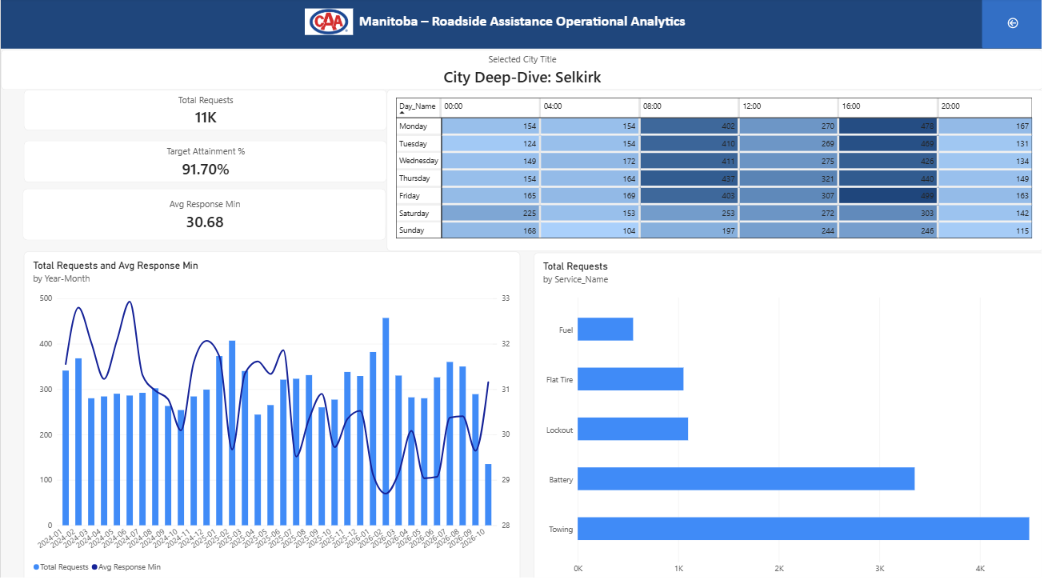

Layout of this report page (visuals, bound fields, positions):
{"tool":"powerbi","page":{"name":"City Deep-Dive","canvas":[1920,1080],"ordinal":3},"visuals":[{"type":"shape","box":[0,0,1920.8,93.8],"z":1000},{"type":"textbox","box":[0,26,1919.5,67.7],"z":2000},{"type":"cardVisual","fields":{"Data":["_Measures.Selected City Title"]},"box":[0,95.9,1918.2,74.2],"z":3000},{"type":"cardVisual","fields":{"Data":["_Measures.Total Requests"]},"box":[41.7,168.7,668.8,75],"z":4000},{"type":"cardVisual","fields":{"Data":["_Measures.Target Attainment %"]},"box":[41.7,262.4,668.8,77.1],"z":5000},{"type":"cardVisual","fields":{"Data":["_Measures.Avg Response Min"]},"box":[39.6,352,668.8,95.8],"z":6000},{"type":"lineStackedColumnComboChart","fields":{"Category":["Date.Year-Month"],"Y":["_Measures.Total Requests"],"Y2":["_Measures.Avg Response Min"]},"box":[41.7,466.7,913.4,611.9],"z":7000},{"type":"clusteredBarChart","fields":{"Category":["Service Type.Service_Name"],"Y":["_Measures.Total Requests"]},"box":[980.6,469.4,938.9,613.9],"z":8000},{"type":"actionButton","box":[1804.9,0,114.6,93.8],"z":10000},{"type":"image","box":[560,0,88.6,88.6],"z":11000},{"type":"pivotTable","fields":{"Columns":["Roadside Assistance.Hour_Block"],"Rows":["Roadside Assistance.Day_Name"],"Values":["_Measures.Total Requests"]},"box":[711.1,169.4,1208.3,297.2],"z":14000}]}

Visuals, with their boxes in screenshot pixels (x1, y1, x2, y2), scaled from the page's 1920x1080 canvas onto the 1042x578 screenshot:
shape: (0,0,1041,50)
textbox: (0,14,1041,50)
cardVisual - _Measures.Selected City Title: (0,51,1041,91)
cardVisual - _Measures.Total Requests: (23,90,386,130)
cardVisual - _Measures.Target Attainment %: (23,140,386,182)
cardVisual - _Measures.Avg Response Min: (21,188,384,240)
lineStackedColumnComboChart - Date.Year-Month x _Measures.Total Requests: (23,250,518,577)
clusteredBarChart - Service Type.Service_Name x _Measures.Total Requests: (532,251,1041,577)
actionButton: (980,0,1041,50)
image: (304,0,352,47)
pivotTable - Roadside Assistance.Hour_Block x Roadside Assistance.Day_Name: (386,91,1041,250)
